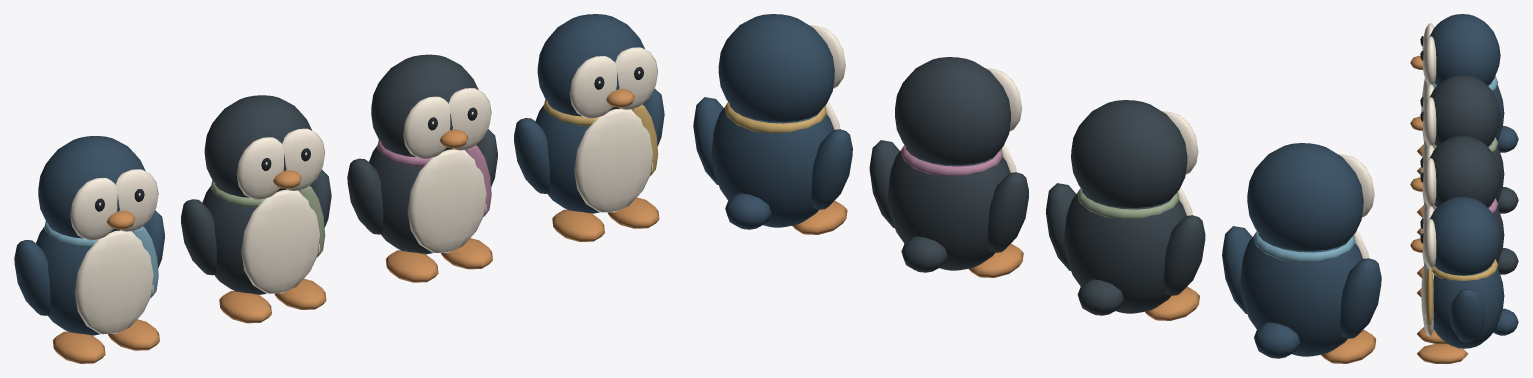
File: penguin-plush-variants.glb
3 renders of one model, left to right at view 1: azimuth 30°, elevation 25°; view 2: azimuth 150°, elevation 25°; view 3: azimuth 270°, elevation 25°, orthographic. The views are drawn at different scales.
Visible parts, largest first — view 1: berry scarf penguin, honey scarf penguin, sage scarf penguin, blue scarf penguin; view 2: blue scarf penguin, sage scarf penguin, honey scarf penguin, berry scarf penguin; view 3: honey scarf penguin, blue scarf penguin, sage scarf penguin, berry scarf penguin.
Boxes of the visible parts, x1=… form: berry scarf penguin: x1=347, y1=54, x2=497, y2=282; honey scarf penguin: x1=514, y1=14, x2=664, y2=241; sage scarf penguin: x1=181, y1=95, x2=331, y2=323; blue scarf penguin: x1=14, y1=136, x2=164, y2=363; blue scarf penguin: x1=1222, y1=143, x2=1381, y2=363; sage scarf penguin: x1=1046, y1=100, x2=1205, y2=320; honey scarf penguin: x1=693, y1=14, x2=852, y2=234; berry scarf penguin: x1=869, y1=57, x2=1028, y2=277; honey scarf penguin: x1=1410, y1=196, x2=1518, y2=363; blue scarf penguin: x1=1410, y1=14, x2=1518, y2=174; sage scarf penguin: x1=1410, y1=75, x2=1518, y2=235; berry scarf penguin: x1=1410, y1=136, x2=1518, y2=297.
Size of the model in its own units: 3.28 by 0.98 by 0.64.
